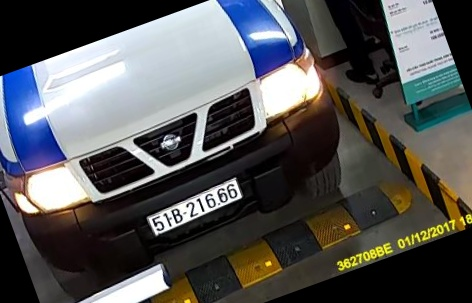plate: (142, 176, 245, 240)
